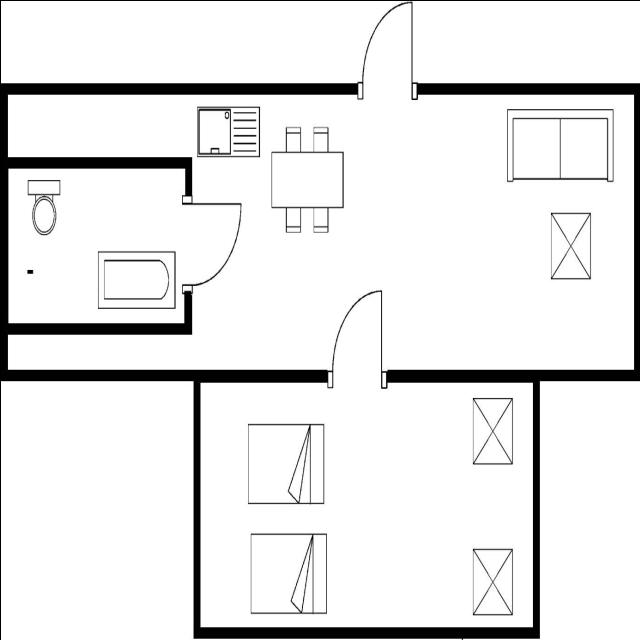bed: (247, 528, 330, 618), (245, 418, 328, 508)
coffee_table: (470, 392, 516, 470), (548, 207, 594, 284), (469, 543, 515, 619)
dining_table: (268, 120, 346, 237)
large_sink: (22, 175, 64, 241)
large_sofa: (502, 105, 616, 186)
sink: (193, 102, 262, 160)
tub: (95, 246, 178, 314)
